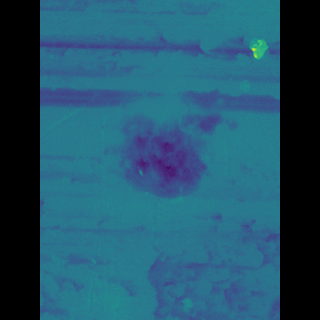Loch: (98, 60, 228, 319)
